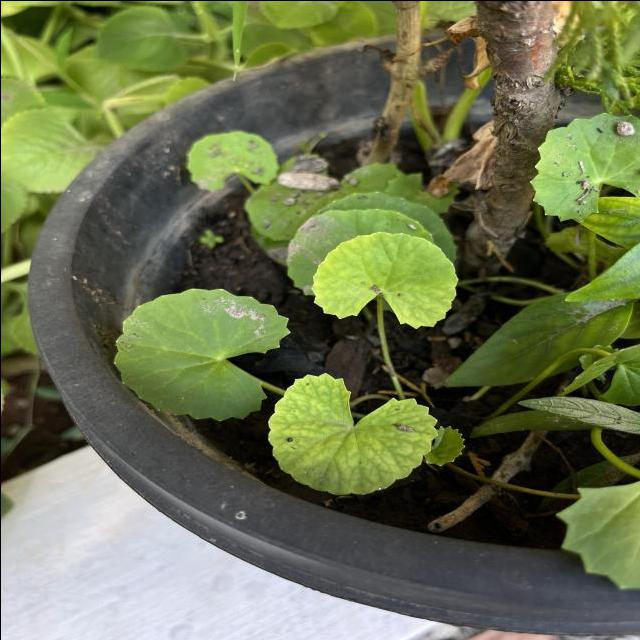Centella asiatica: (109, 284, 295, 424), (262, 368, 440, 497), (306, 227, 462, 331)
